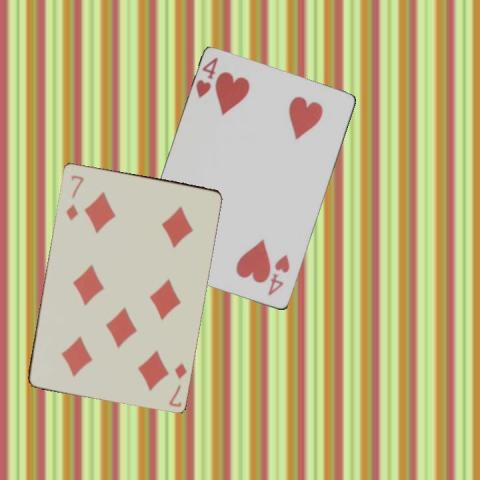4h: (265, 251, 291, 298), (193, 55, 220, 100)
7d: (165, 359, 188, 408), (63, 171, 85, 222)
